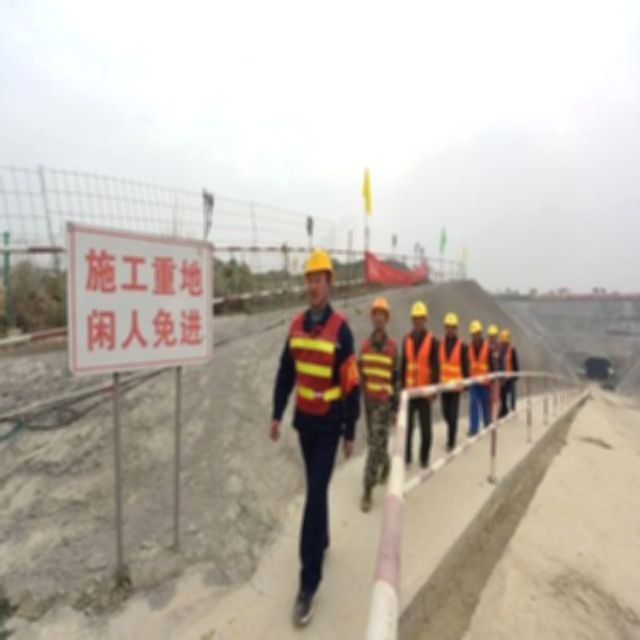Con_Chaleco: (290, 309, 349, 418), (363, 335, 397, 398), (406, 334, 430, 394), (437, 333, 464, 386), (469, 341, 491, 385)
